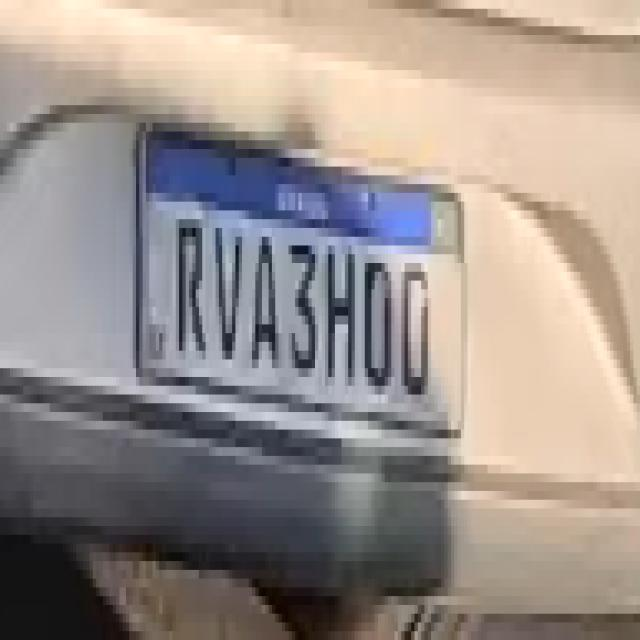Placa_mercosul_carro: (135, 116, 465, 436)
